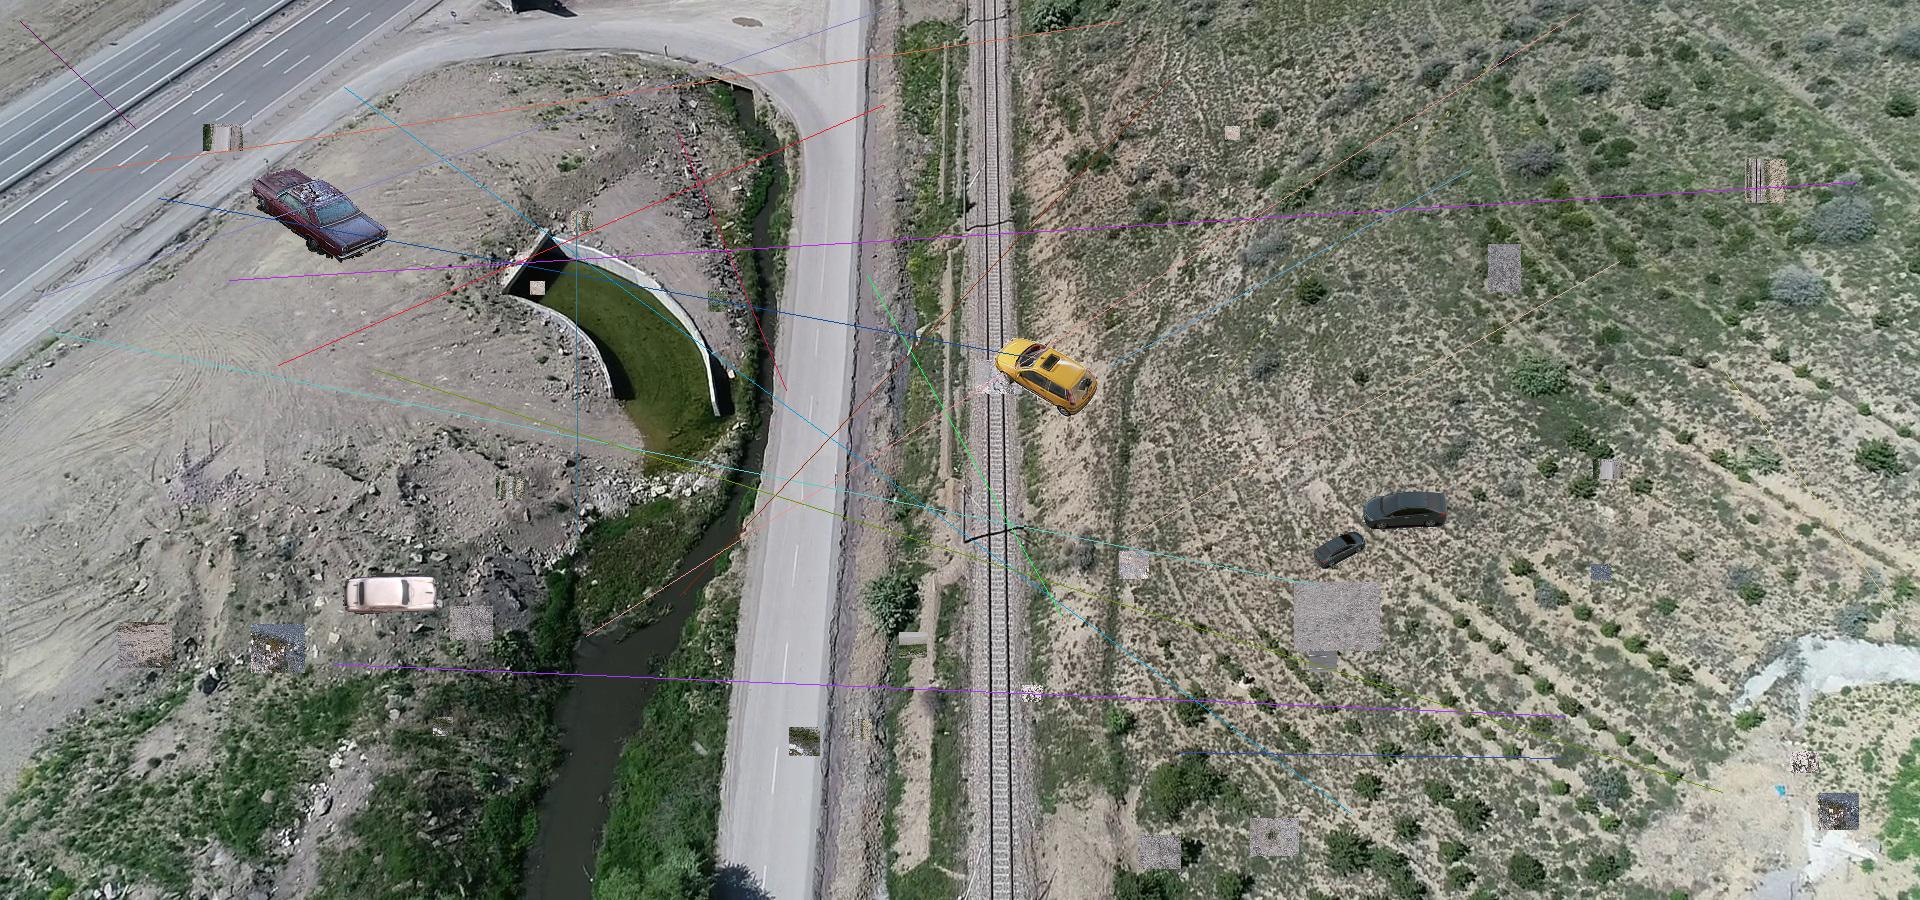arac: (244, 157, 393, 263), (993, 333, 1098, 418), (339, 572, 442, 617), (1362, 490, 1449, 530), (1311, 530, 1367, 569)
